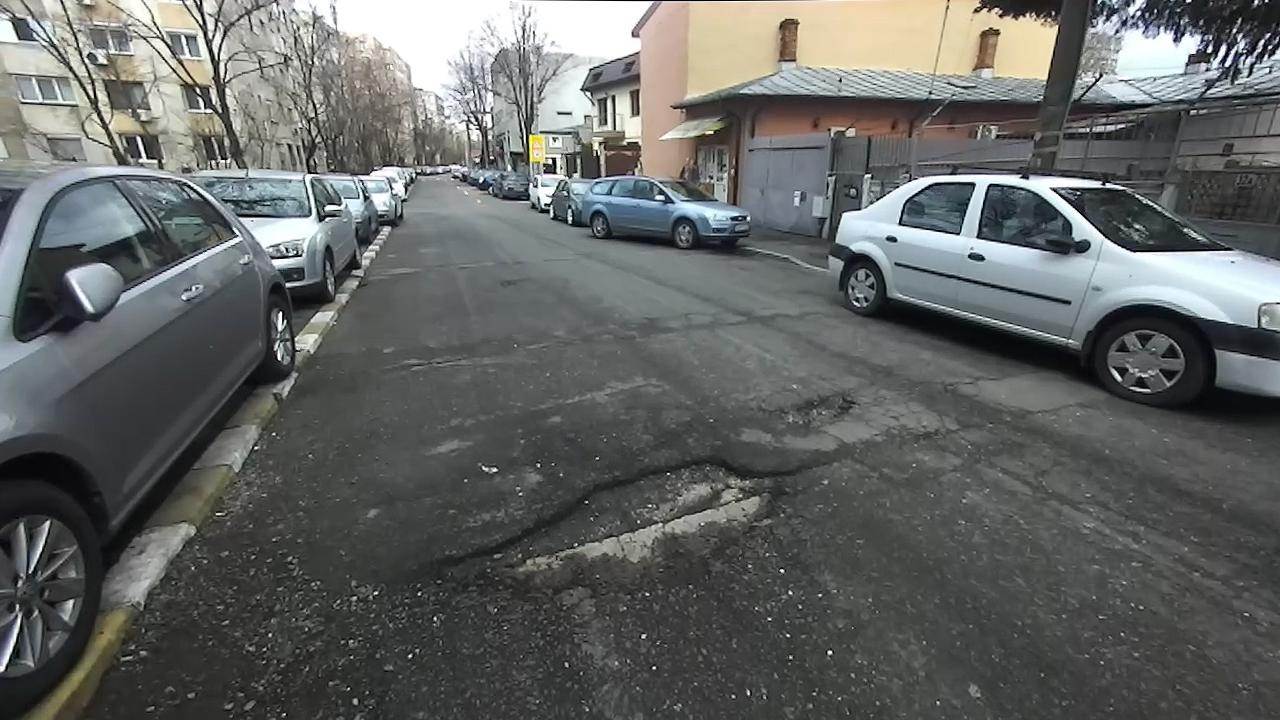pothole: (403, 448, 839, 608), (764, 380, 864, 427), (387, 349, 472, 378)
